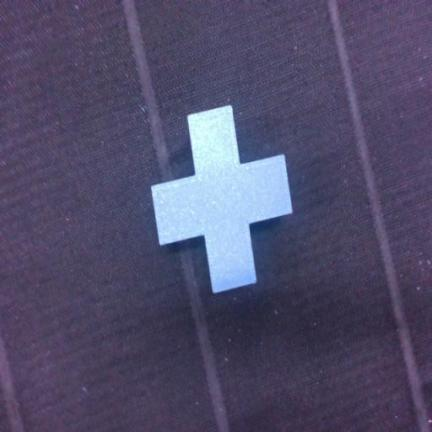cross: (152, 106, 291, 292)
